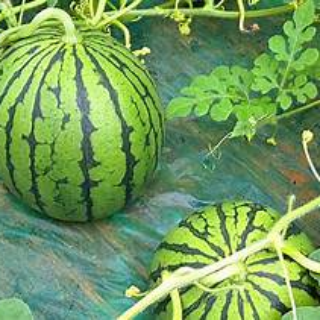dua_hau: (1, 35, 167, 225)
